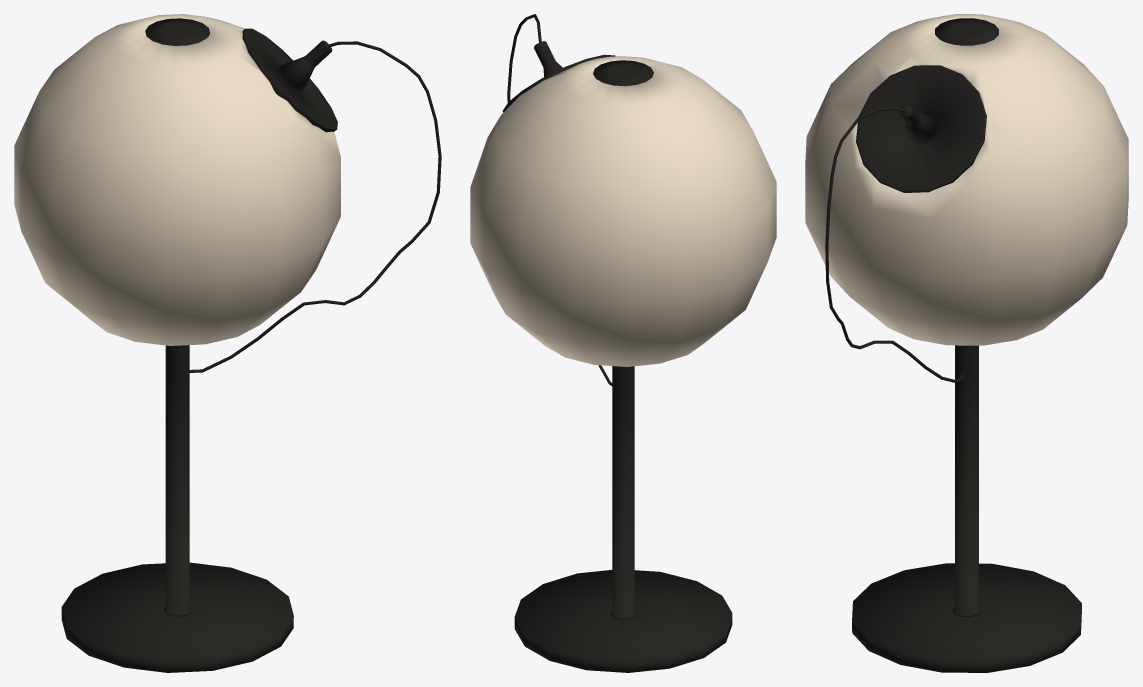
File: light_lamp_3.fbx
3 views of the same model, side by side, from view 1: azimuth 30°, elevation 25°; view 2: azimuth 150°, elevation 25°; view 3: azimuth 270°, elevation 25° (orthographic). The views are drawn at different scales.
Visible parts, largest first — view 1: glass lamp.011; view 2: glass lamp.011; view 3: glass lamp.011.
Boxes of the visible parts, left/top/right/bottom form: glass lamp.011: left=14, top=14, right=441, bottom=672; glass lamp.011: left=470, top=14, right=776, bottom=672; glass lamp.011: left=805, top=14, right=1128, bottom=672.
Size of the model in its own units: 31.99 by 54.36 by 26.81.
